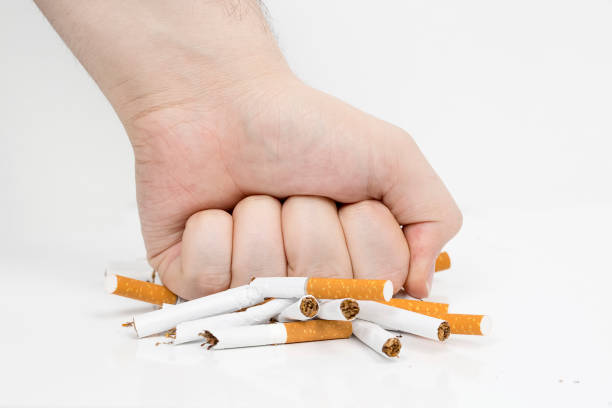cigarette: (130, 282, 265, 338), (165, 297, 299, 346), (198, 318, 353, 352), (356, 300, 451, 342), (248, 276, 394, 302), (103, 271, 189, 306), (352, 319, 403, 358), (421, 312, 492, 336), (278, 293, 321, 321), (384, 300, 456, 315), (318, 298, 361, 320), (434, 250, 453, 273), (150, 269, 166, 288)
